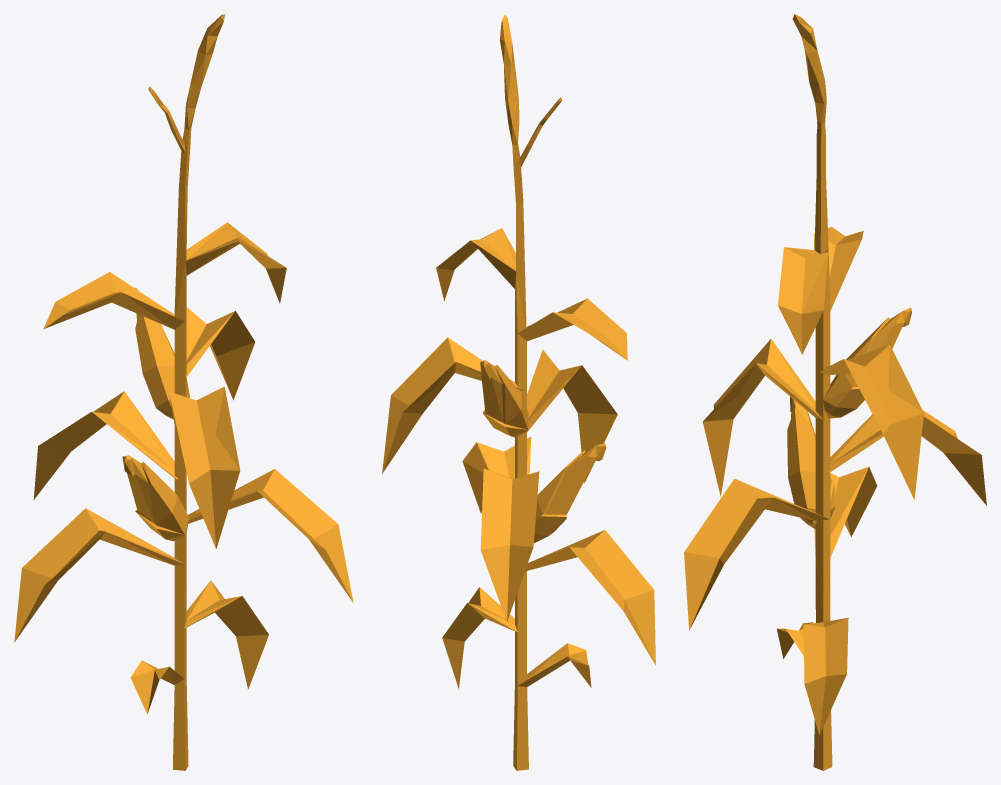
The model's file is SM_Corn_Ripe_Fieldcorn_C.fbx.
3 renders of one model, left to right at view 1: azimuth 30°, elevation 25°; view 2: azimuth 150°, elevation 25°; view 3: azimuth 270°, elevation 25°, orthographic. The views are drawn at different scales.
Parts seen in each view (by area): view 1: corn-ripe-fieldcorn-c; view 2: corn-ripe-fieldcorn-c; view 3: corn-ripe-fieldcorn-c.
Part boxes in pixels (<box>): corn-ripe-fieldcorn-c: <box>14,14,353,770</box>; corn-ripe-fieldcorn-c: <box>382,14,655,770</box>; corn-ripe-fieldcorn-c: <box>684,14,986,770</box>.
Bounding box in the file's own units: 0.8086 × 2.24 × 0.7991.
